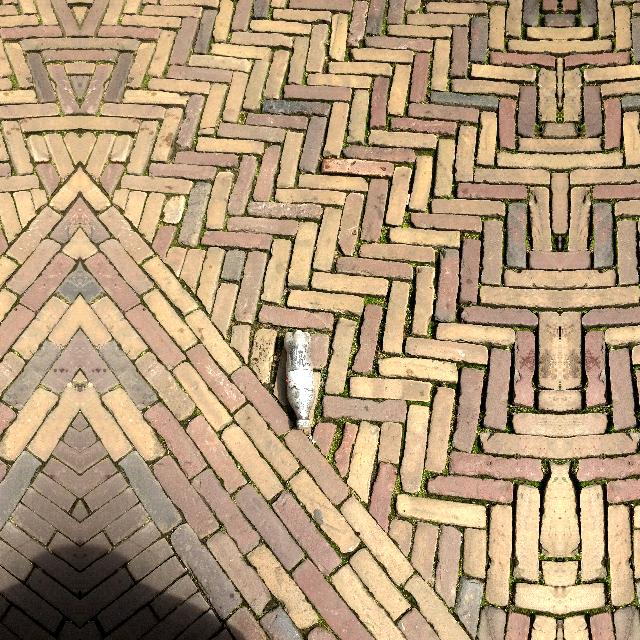Plastic: (272, 321, 332, 437)
